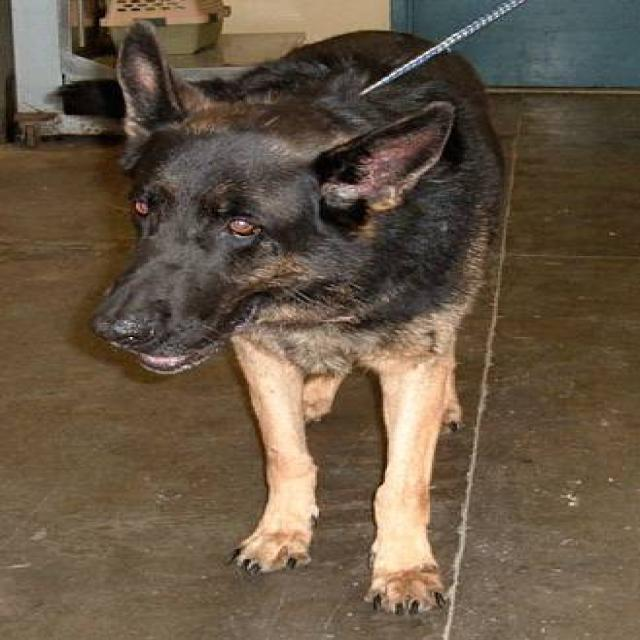dog: (88, 18, 508, 616)
